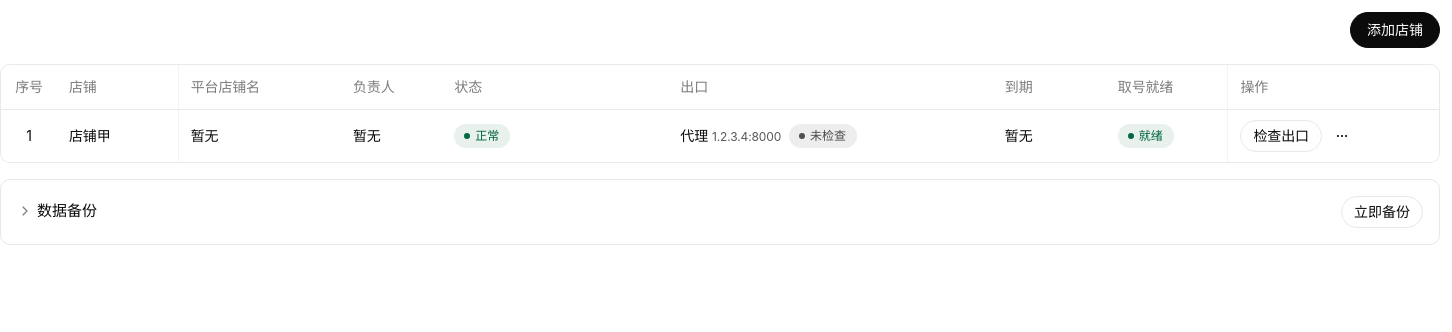
Test: 店铺与设置页 › 出口未检查：直接显示「检查出口」按钮，不显示扫码登录；检查通过后换成扫码登录
Expected: the button "扫码登录" is not shown
Click the button "检查出口" at (1281, 136), box [1240, 120, 1322, 152]
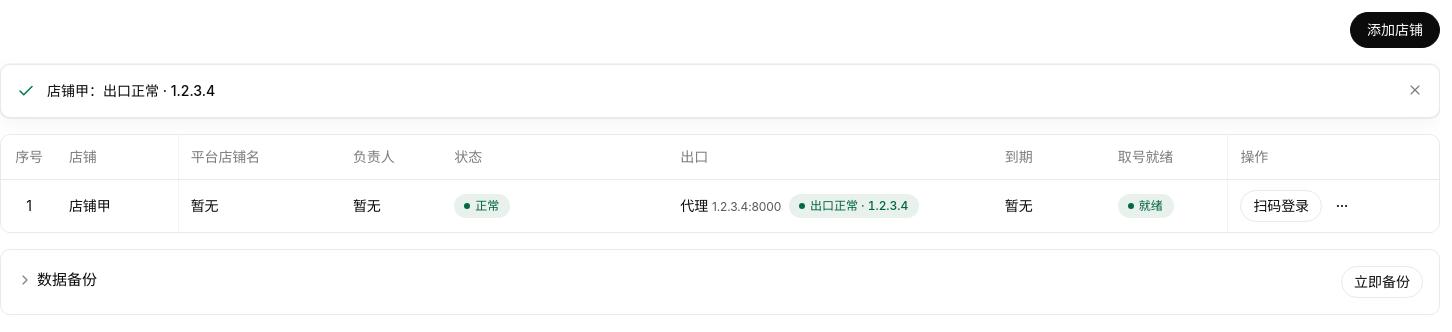
Expected: the button "扫码登录" is enabled, [1240, 190, 1322, 222]
Expected: the button "检查出口" is gone
